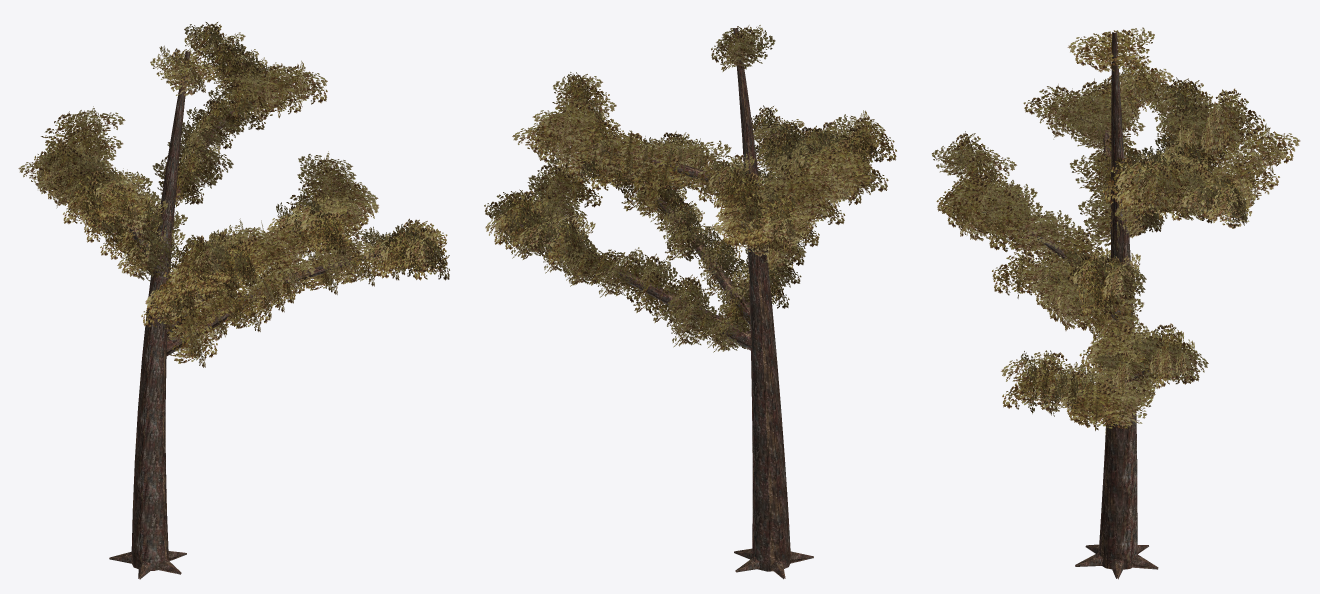
The model's file is tree_3d_04_golden_beige_lod0.glb.
3 views of the same model, side by side, from view 1: azimuth 30°, elevation 25°; view 2: azimuth 150°, elevation 25°; view 3: azimuth 270°, elevation 25° (orthographic). The views are drawn at different scales.
Visible parts, largest first — view 1: foliage_cards, wood_geometry; view 2: foliage_cards, wood_geometry; view 3: foliage_cards, wood_geometry.
Part boxes in pixels (x1,y1,x2,y2): foliage_cards: (18, 22, 449, 367); wood_geometry: (76, 46, 405, 579); foliage_cards: (484, 25, 896, 352); wood_geometry: (515, 27, 813, 579); foliage_cards: (932, 27, 1300, 434); wood_geometry: (974, 32, 1266, 579).
Size of the model in its own units: 9.37 by 11.59 by 7.14.
Materials: 2 (2 with a texture image).
